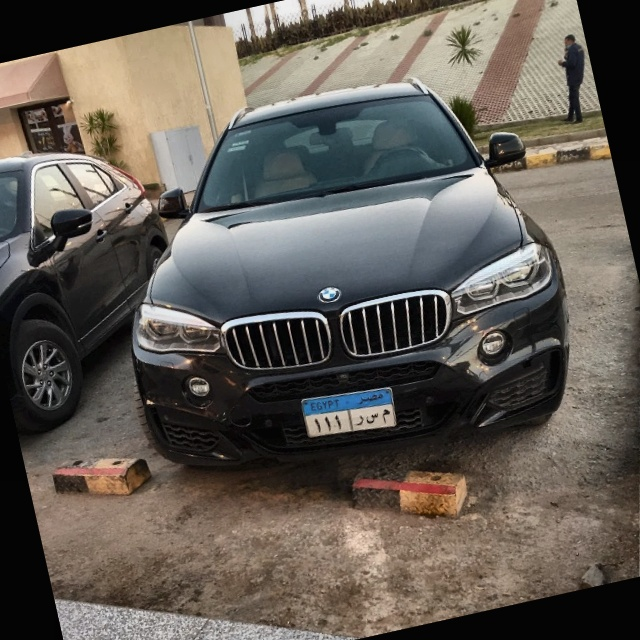License Plate: (297, 379, 400, 447)
